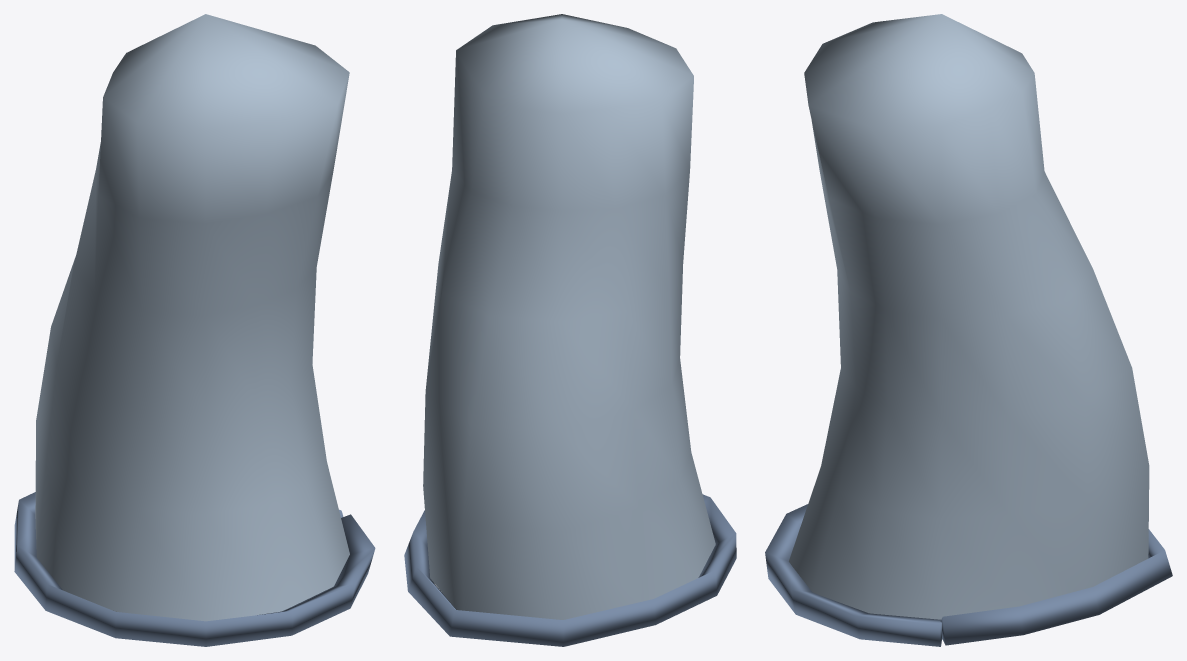
File: titanium_armor_boot.L.glb
3 views of the same model, side by side, from view 1: azimuth 30°, elevation 25°; view 2: azimuth 150°, elevation 25°; view 3: azimuth 270°, elevation 25° (orthographic). The views are drawn at different scales.
Visible parts, largest first — view 1: titanium_armor_boot.L; view 2: titanium_armor_boot.L; view 3: titanium_armor_boot.L.
Boxes of the visible parts, x1,y1,x2,y2 form: titanium_armor_boot.L: (14, 14, 375, 646); titanium_armor_boot.L: (404, 14, 736, 646); titanium_armor_boot.L: (765, 14, 1172, 646).
Bounding box in the file's own units: 0.1684 × 0.2958 × 0.1934.
